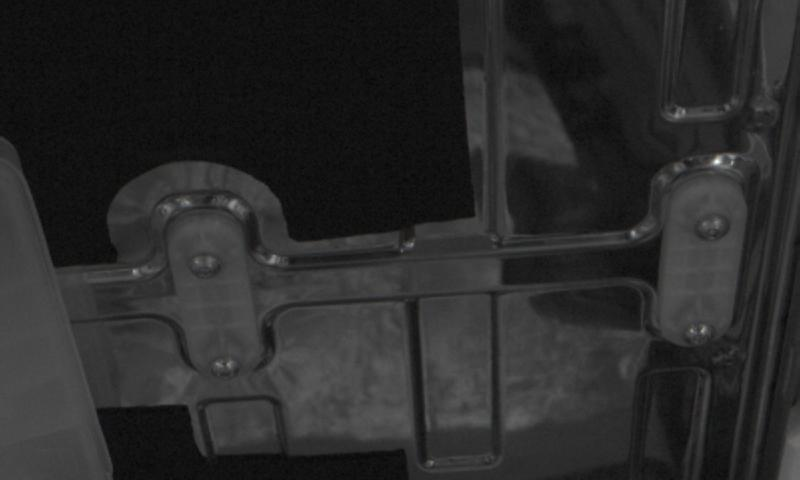vida-ok: (687, 202, 734, 252), (193, 343, 246, 384), (672, 307, 722, 349), (182, 247, 229, 284)
